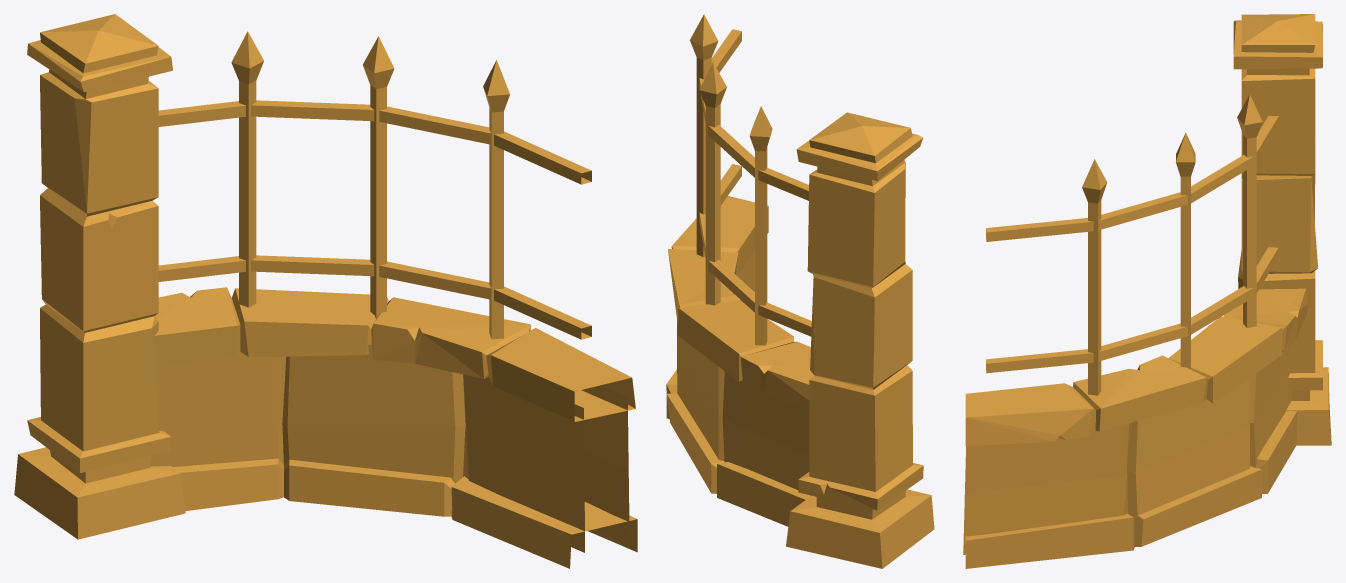
File: wall-graveyard-1m-corner.fbx
The picture shows the model from 3 angles, left to right: view 1: azimuth 30°, elevation 25°; view 2: azimuth 150°, elevation 25°; view 3: azimuth 270°, elevation 25°; orthographic projection. The views are drawn at different scales.
Visible parts, largest first — view 1: wall-graveyard-1m-corner; view 2: wall-graveyard-1m-corner; view 3: wall-graveyard-1m-corner.
Part boxes in pixels (bbox=[...]): wall-graveyard-1m-corner: bbox=[14, 14, 637, 568]; wall-graveyard-1m-corner: bbox=[666, 14, 934, 568]; wall-graveyard-1m-corner: bbox=[963, 14, 1331, 568].
Size of the model in its own units: 1.29 by 1.43 by 1.19.
